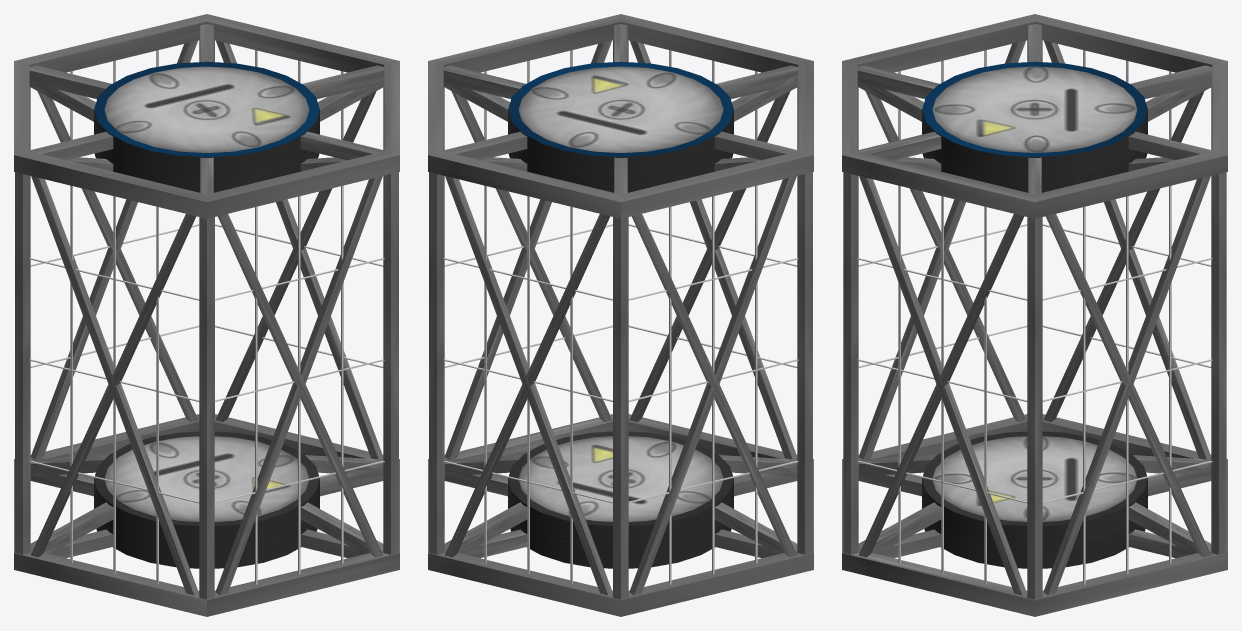
Rendered from HalfHexTruss.FBX.
3 views of the same model, side by side, from view 1: azimuth 30°, elevation 25°; view 2: azimuth 150°, elevation 25°; view 3: azimuth 270°, elevation 25° (orthographic).
Parts seen in each view (by area): view 1: EndCap007, EndBeam005, EndCap012, EndBeam008, Pole012, Pole003, Pole011, EndBeam004, CrossBeam024, CrossBeam019, CrossBeam018, CrossBeam025 (+28 smaller); view 2: EndCap007, EndCap012, EndBeam002, EndBeam005, EndBeam004, EndBeam008, Pole016, Pole003, Pole005, CrossBeam013, CrossBeam023, EndBeam007 (+30 smaller); view 3: EndCap007, EndCap012, EndBeam005, EndBeam008, EndBeam004, Pole006, Pole005, Pole011, CrossBeam016, CrossBeam015, EndBeam007, EndBeam002 (+30 smaller).
Part boxes in pixels (left/top/right/bottom): EndCap007: left=94, top=61, right=319, bottom=178; EndBeam005: left=14, top=14, right=399, bottom=217; EndCap012: left=94, top=431, right=319, bottom=547; EndBeam008: left=14, top=414, right=399, bottom=616; Pole012: left=199, top=217, right=214, bottom=599; Pole003: left=15, top=172, right=30, bottom=554; Pole011: left=383, top=172, right=398, bottom=554; EndBeam004: left=14, top=22, right=399, bottom=218; CrossBeam024: left=31, top=176, right=198, bottom=595; CrossBeam019: left=215, top=176, right=382, bottom=595; CrossBeam018: left=218, top=214, right=383, bottom=557; CrossBeam025: left=30, top=214, right=196, bottom=557; EndCap007: left=508, top=61, right=733, bottom=178; EndCap012: left=508, top=431, right=733, bottom=547; EndBeam002: left=428, top=22, right=813, bottom=218; EndBeam005: left=428, top=14, right=813, bottom=208; EndBeam004: left=428, top=22, right=813, bottom=218; EndBeam008: left=428, top=414, right=813, bottom=616; Pole016: left=613, top=217, right=628, bottom=599; Pole003: left=797, top=172, right=812, bottom=554; Pole005: left=429, top=172, right=444, bottom=554; CrossBeam013: left=445, top=176, right=612, bottom=595; CrossBeam023: left=629, top=176, right=796, bottom=595; EndBeam007: left=428, top=425, right=813, bottom=616; EndCap007: left=922, top=61, right=1147, bottom=178; EndCap012: left=922, top=431, right=1147, bottom=547; EndBeam005: left=842, top=14, right=1227, bottom=217; EndBeam008: left=842, top=414, right=1227, bottom=616; EndBeam004: left=842, top=22, right=1227, bottom=218; Pole006: left=1027, top=217, right=1042, bottom=599; Pole005: left=1211, top=172, right=1226, bottom=554; Pole011: left=843, top=172, right=858, bottom=554; CrossBeam016: left=859, top=176, right=1026, bottom=595; CrossBeam015: left=1043, top=176, right=1210, bottom=595; EndBeam007: left=843, top=424, right=1227, bottom=616; EndBeam002: left=842, top=22, right=1227, bottom=218.
Size of what is drawn, in the model's own units: 2.46 by 2.53 by 2.13.
Materials: 1 (1 with a texture image).
